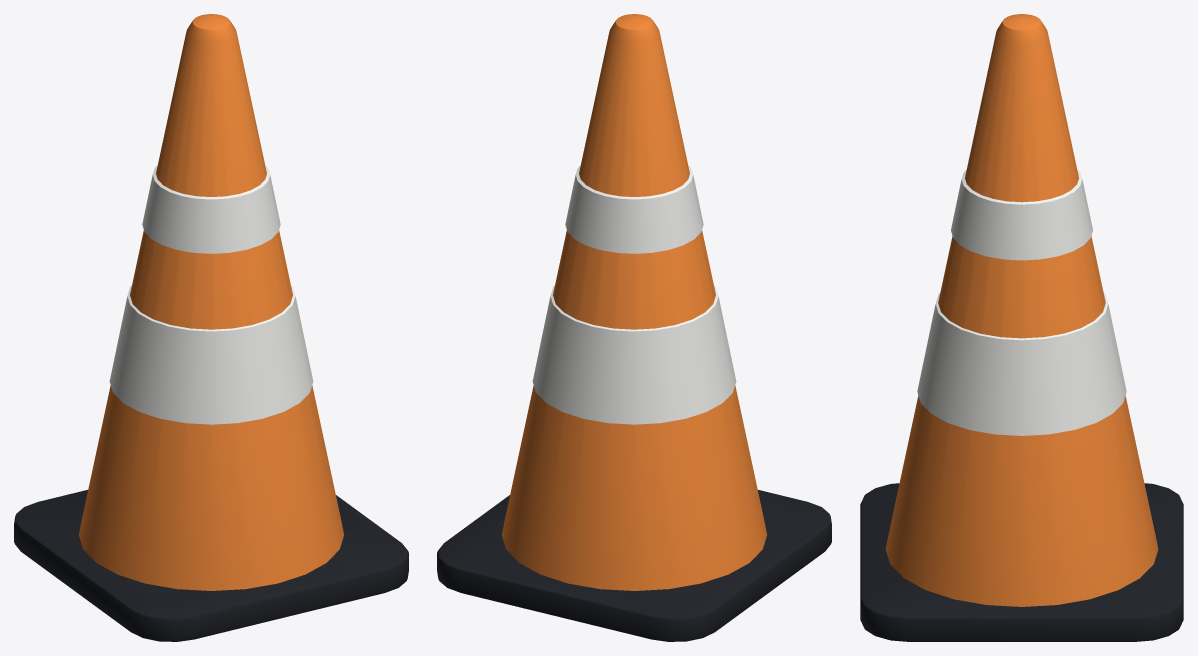
File: cone_transito.glb
3 views of the same model, side by side, from view 1: azimuth 30°, elevation 25°; view 2: azimuth 150°, elevation 25°; view 3: azimuth 270°, elevation 25° (orthographic). The views are drawn at different scales.
Visible parts, largest first — view 1: cone_transito; view 2: cone_transito; view 3: cone_transito.
Part boxes in pixels (bbox=[...]): cone_transito: bbox=[14, 14, 408, 641]; cone_transito: bbox=[437, 14, 831, 641]; cone_transito: bbox=[860, 14, 1183, 641].
Size of the model in its own units: 0.4 by 0.76 by 0.4.
1 material, 1 textured.
